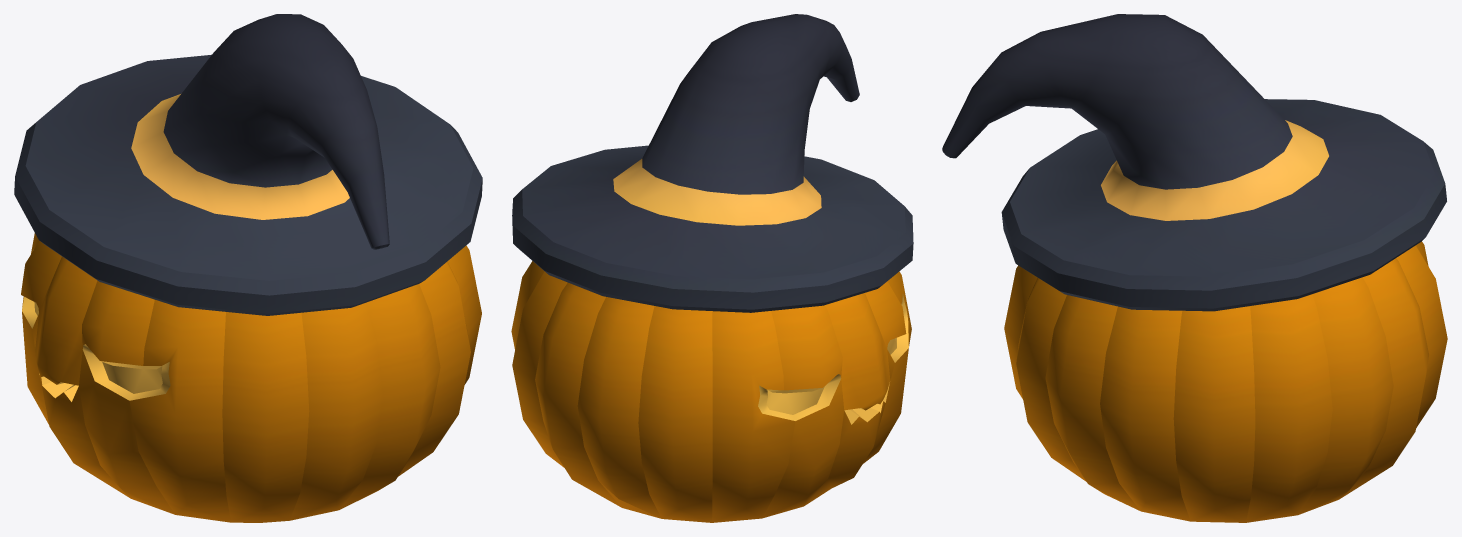
The model's file is Pumpkin_1.obj.
The picture shows the model from 3 angles, left to right: view 1: azimuth 30°, elevation 25°; view 2: azimuth 150°, elevation 25°; view 3: azimuth 270°, elevation 25°; orthographic projection. The views are drawn at different scales.
Visible parts, largest first — view 1: Pumpkin_1; view 2: Pumpkin_1; view 3: Pumpkin_1.
Boxes of the visible parts, <box> form: Pumpkin_1: <box>14,14,482,522</box>; Pumpkin_1: <box>511,14,913,522</box>; Pumpkin_1: <box>942,14,1447,522</box>.
Bounding box in the file's own units: 0.4317 × 0.4914 × 0.495.
